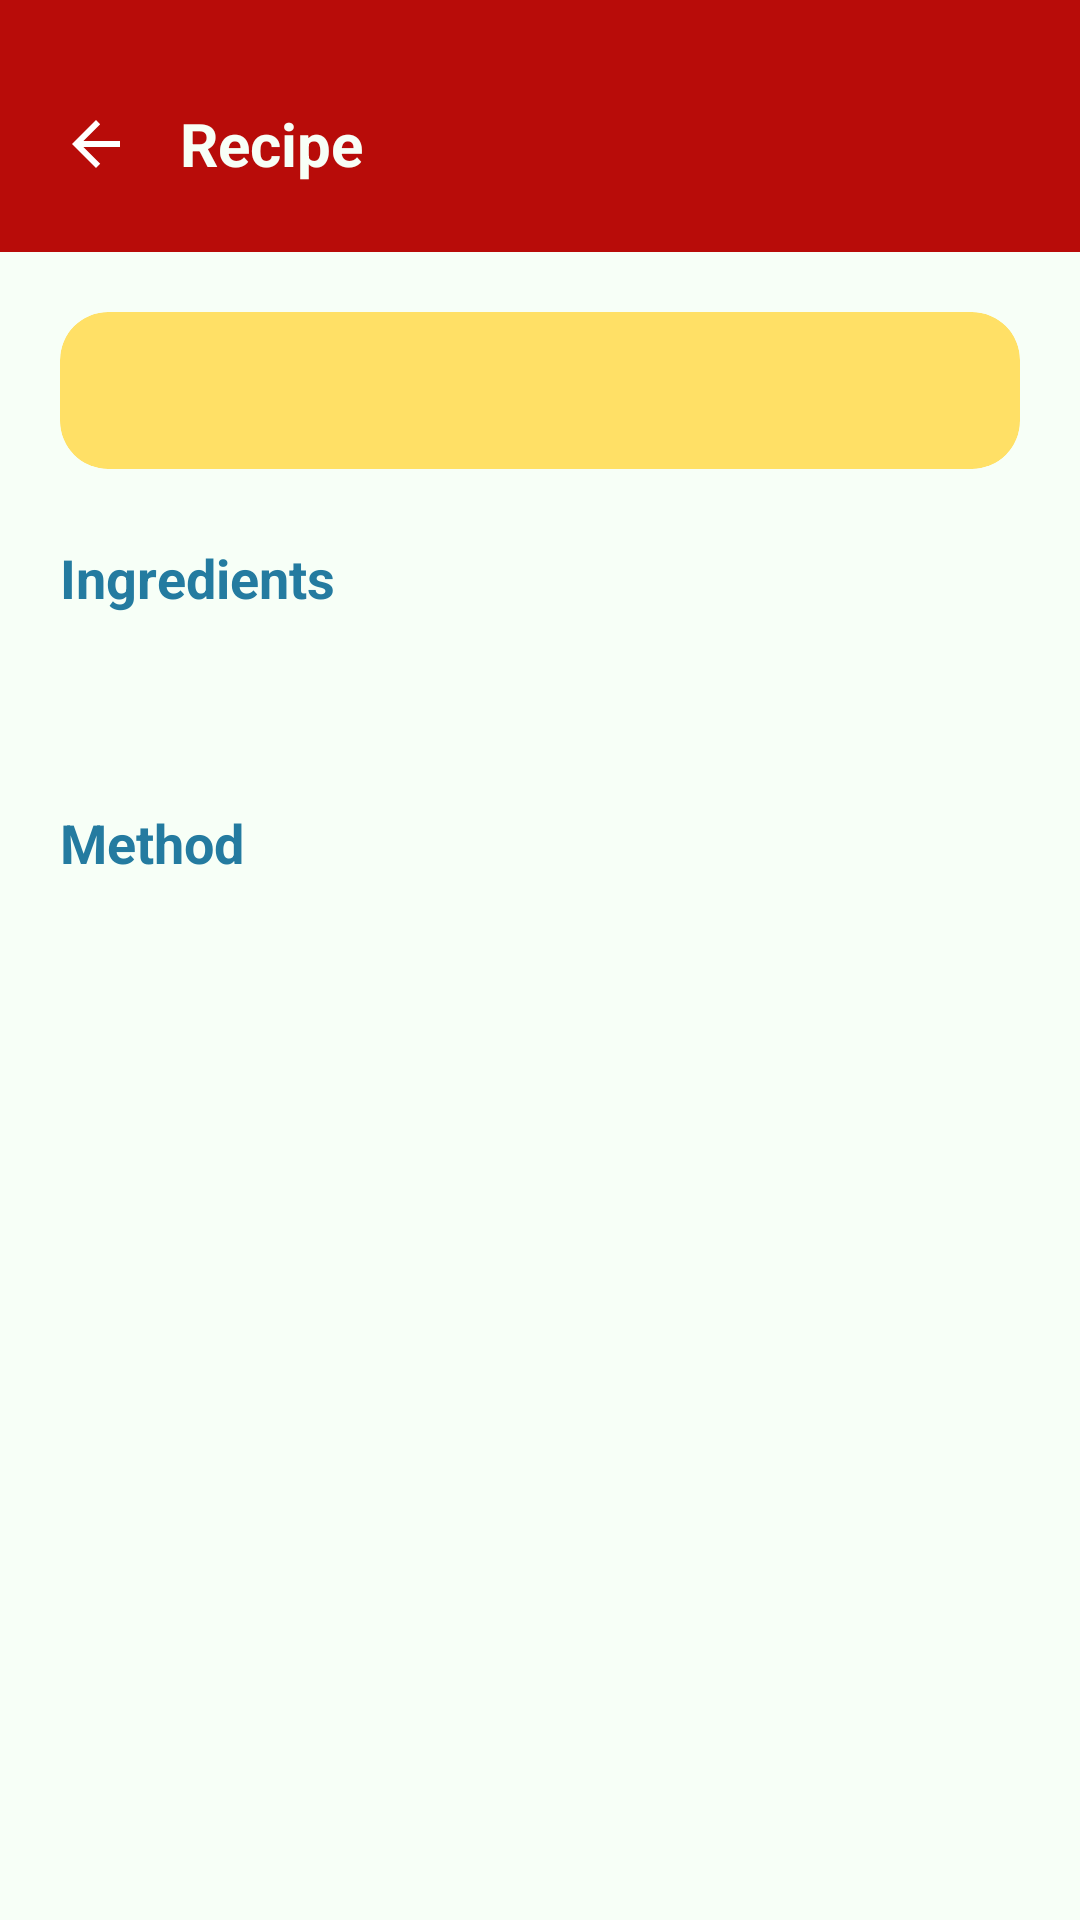

Icons on this 1080px x 1920px Android screen, each with the point to tap as (x=x, y=y):
Back: (x=96, y=144)
